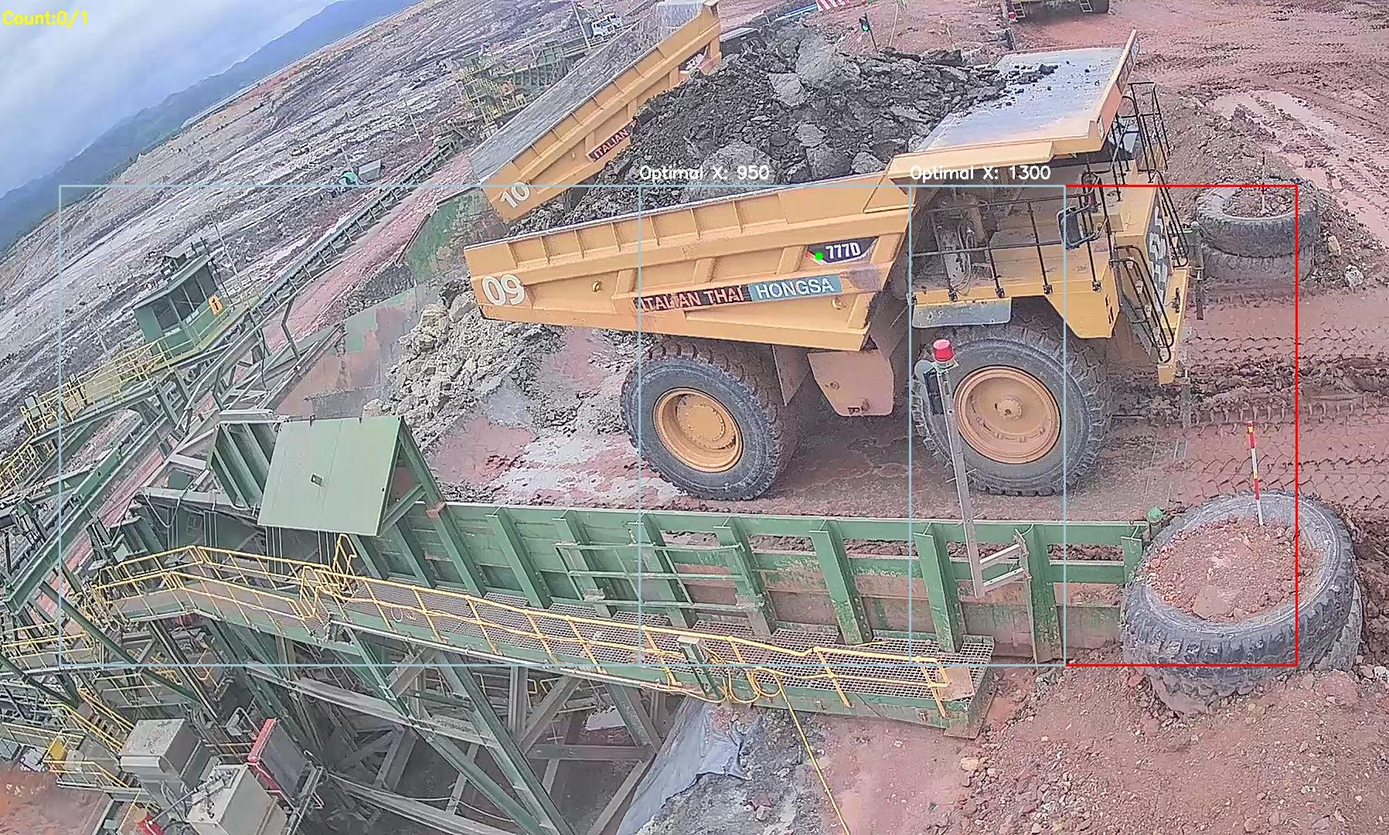company: (626, 264, 856, 316)
full_load: (625, 22, 928, 200)
mining_truck: (451, 14, 1220, 504)
tail_number: (478, 268, 534, 316)
truck_size: (803, 229, 889, 272)
